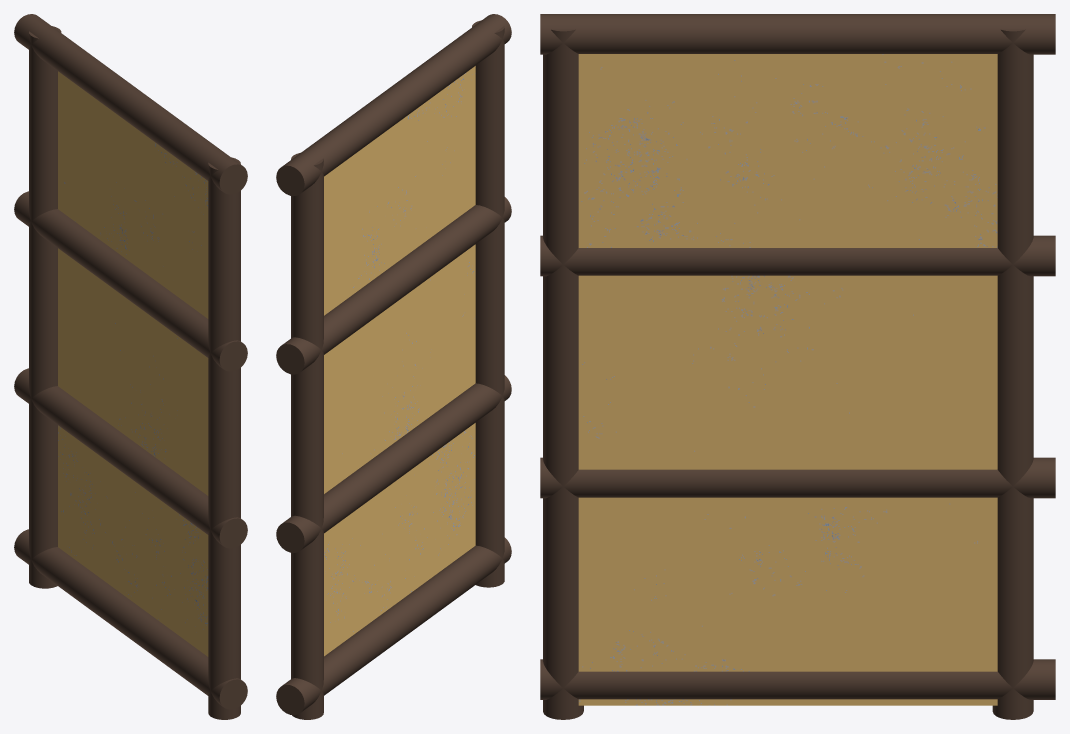
3 renders of one model, left to right at view 1: azimuth 30°, elevation 25°; view 2: azimuth 150°, elevation 25°; view 3: azimuth 270°, elevation 25°, orthographic. The views are drawn at different scales.
Visible parts, largest first — view 1: B; view 2: B; view 3: B.
Part boxes in pixels (<box>): B: <box>14,14,247,719</box>; B: <box>276,14,511,719</box>; B: <box>540,14,1055,719</box>.
Bounding box in the file's own units: 0.3347 × 6.27 × 4.21.
Materials: 2 (2 with a texture image).
